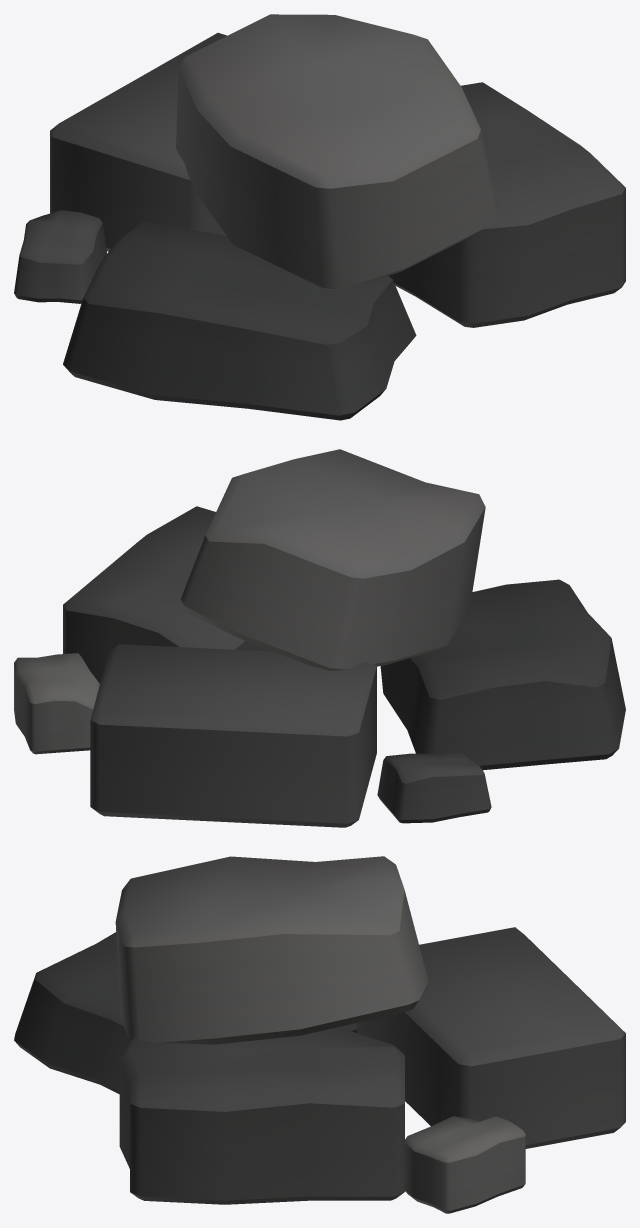
File: StoneBlocks_2.obj
The picture shows the model from 3 angles, top to bottom: view 1: azimuth 30°, elevation 25°; view 2: azimuth 150°, elevation 25°; view 3: azimuth 270°, elevation 25°; orthographic projection. The views are drawn at different scales.
Parts seen in each view (by area): view 1: StoneBlocks_2; view 2: StoneBlocks_2; view 3: StoneBlocks_2.
Part boxes in pixels (x1=…): StoneBlocks_2: x1=14, y1=14, x2=625, y2=420; StoneBlocks_2: x1=14, y1=449, x2=625, y2=827; StoneBlocks_2: x1=14, y1=856, x2=625, y2=1213.
Bounding box in the file's own units: 0.8758 × 0.3659 × 0.9187.
